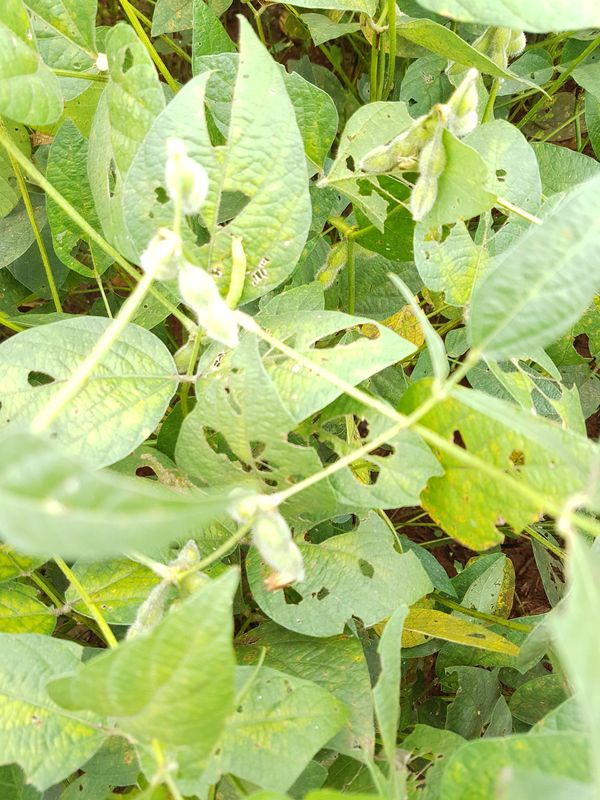Anticarsia_gemmatalis: (201, 227, 268, 317)
Euschistus_heros_adulto: (22, 120, 62, 156)
Euschistus_heros_ninfa: (391, 147, 425, 176)
